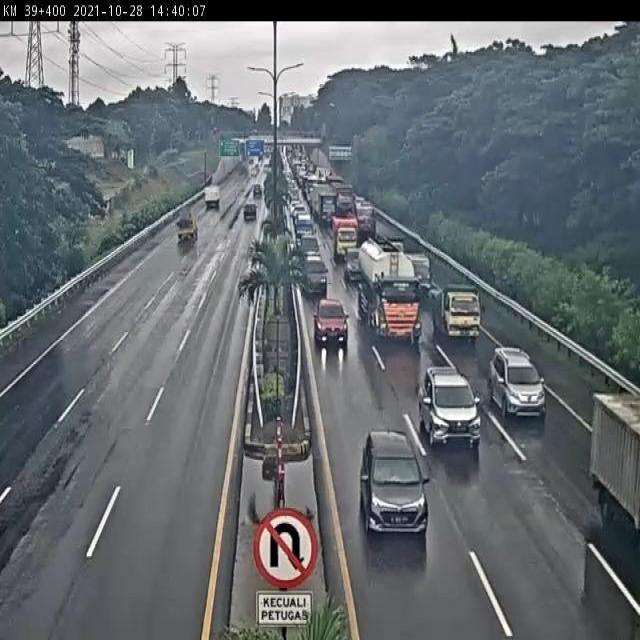car: (360, 428, 429, 533), (421, 368, 481, 448), (488, 345, 546, 412), (312, 298, 349, 346), (302, 253, 329, 292), (343, 245, 367, 280), (298, 235, 319, 261), (241, 203, 259, 225)
small truck: (175, 208, 199, 244)
truck-m-: (428, 284, 481, 339), (331, 216, 359, 261)
truck-s-: (403, 248, 434, 297)
truck-xl-: (356, 238, 422, 338)
